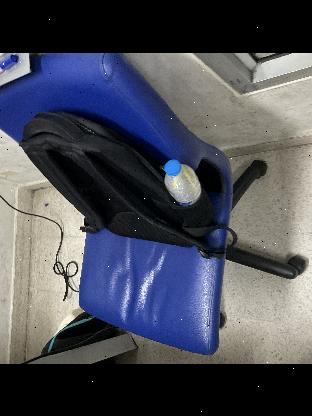Plastic Bottle: (161, 158, 204, 204)
